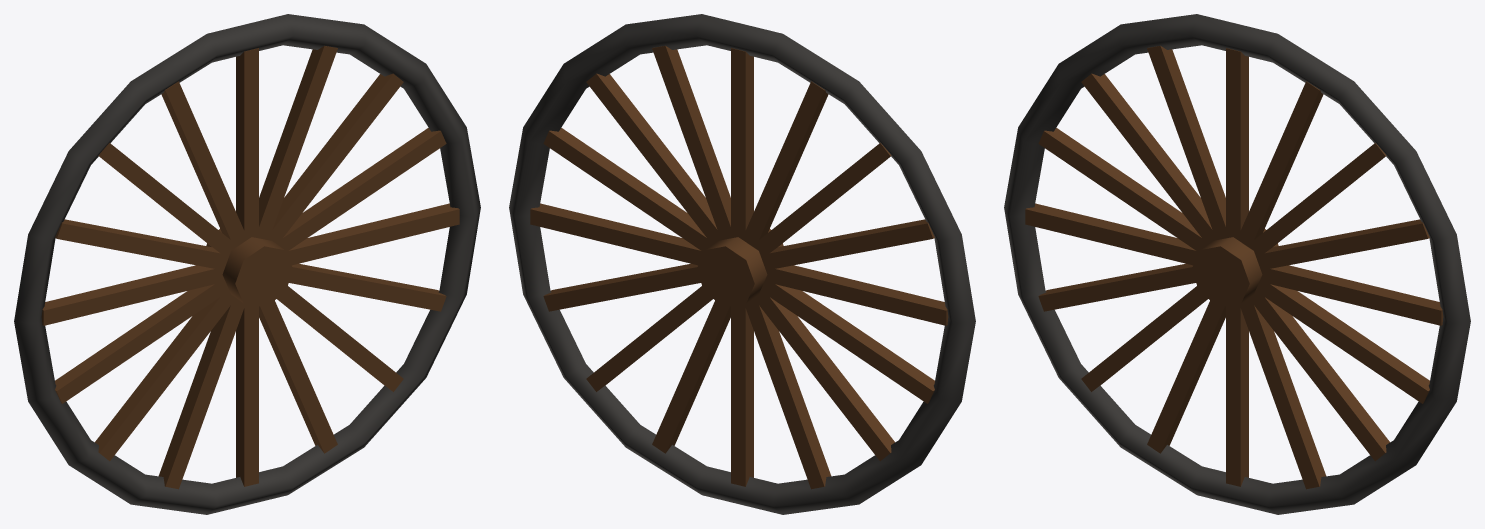
Rendered from wagon_wheel.glb.
The picture shows the model from 3 angles, left to right: view 1: azimuth 30°, elevation 25°; view 2: azimuth 150°, elevation 25°; view 3: azimuth 330°, elevation 25°; orthographic projection.
Parts seen in each view (by area): view 1: wagon_wheel; view 2: wagon_wheel; view 3: wagon_wheel.
Part boxes in pixels (bbox=[...]): wagon_wheel: bbox=[14, 14, 480, 514]; wagon_wheel: bbox=[509, 14, 975, 514]; wagon_wheel: bbox=[1004, 14, 1470, 514].
Bounding box in the file's own units: 1.28 × 1.26 × 0.1599.
